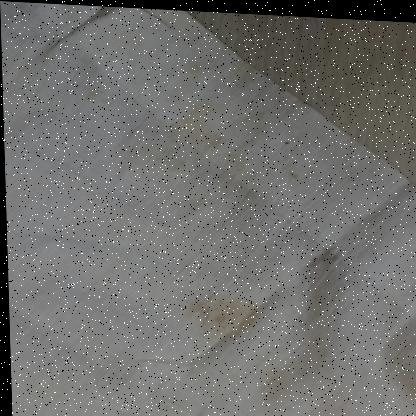spot: (138, 96, 272, 191), (179, 291, 258, 334), (239, 368, 298, 409)
